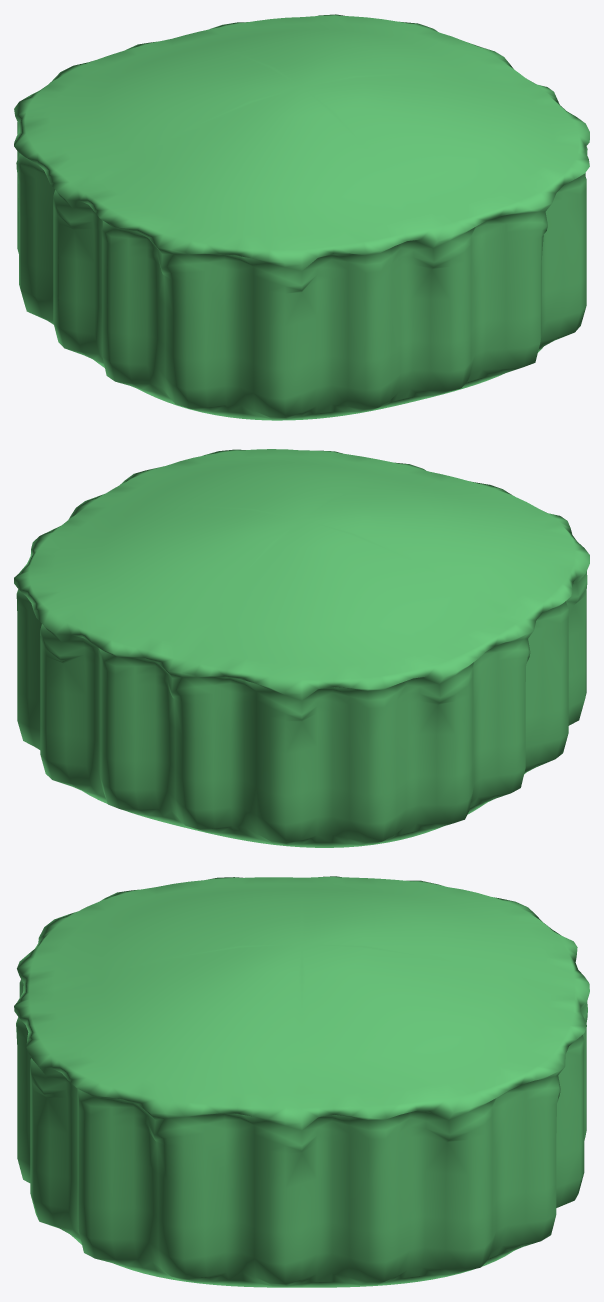
File: recipe-jello-mould.glb
3 renders of one model, top to bottom at view 1: azimuth 30°, elevation 25°; view 2: azimuth 150°, elevation 25°; view 3: azimuth 270°, elevation 25°, orthographic. The views are drawn at different scales.
Visible parts, largest first — view 1: Rounded-square fluted jelly mould; view 2: Rounded-square fluted jelly mould; view 3: Rounded-square fluted jelly mould.
Part boxes in pixels (left/top/right/bottom): Rounded-square fluted jelly mould: left=14, top=14, right=589, bottom=420; Rounded-square fluted jelly mould: left=14, top=449, right=589, bottom=847; Rounded-square fluted jelly mould: left=14, top=876, right=589, bottom=1287.
Size of the model in its own units: 5.9 by 2.7 by 5.88.
